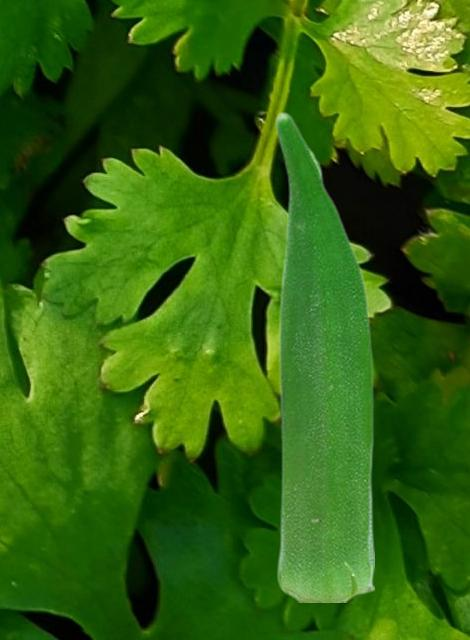okra: (275, 111, 373, 601)
